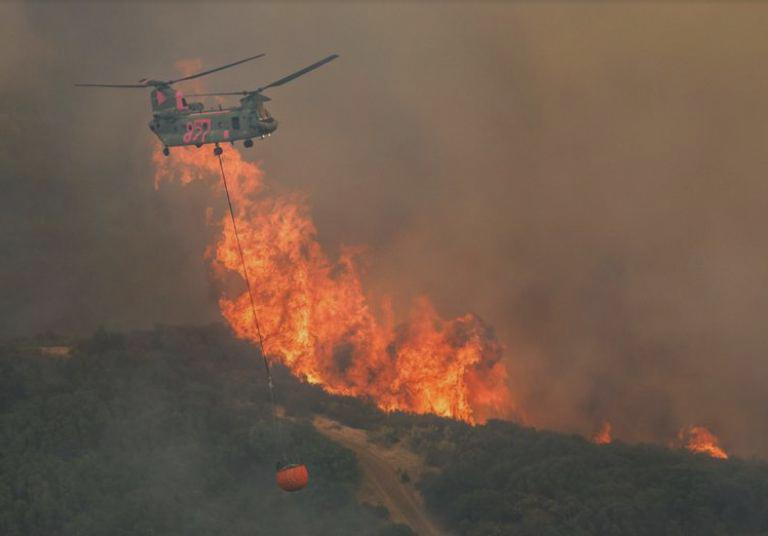Fire: (147, 138, 528, 434), (677, 424, 733, 465), (593, 420, 617, 447)
